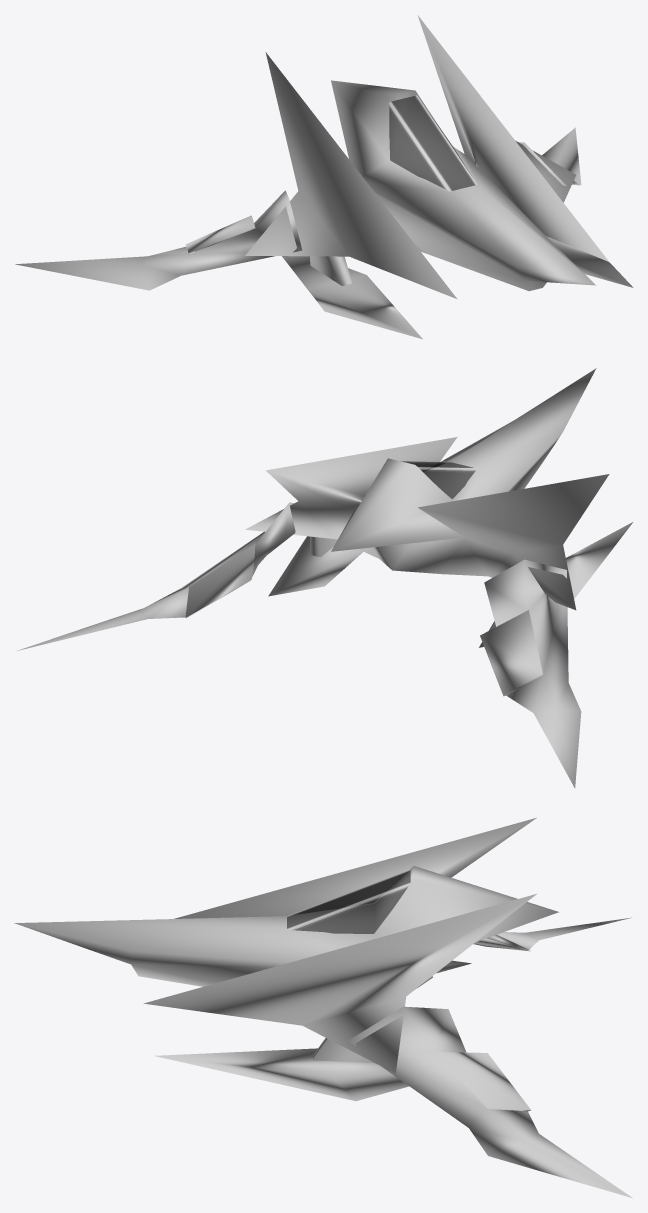
File: arwingNew64.obj
The picture shows the model from 3 angles, top to bottom: view 1: azimuth 30°, elevation 25°; view 2: azimuth 150°, elevation 25°; view 3: azimuth 270°, elevation 25°; orthographic projection. The views are drawn at different scales.
Parts seen in each view (by area): view 1: Arwing.002; view 2: Arwing.002; view 3: Arwing.002.
Boxes of the visible parts, x1,y1,x2,y2 form: Arwing.002: (15,15,633,339); Arwing.002: (16,368,632,787); Arwing.002: (14,817,632,1198).
Size of the model in its own units: 6.4 by 2.15 by 5.96.
